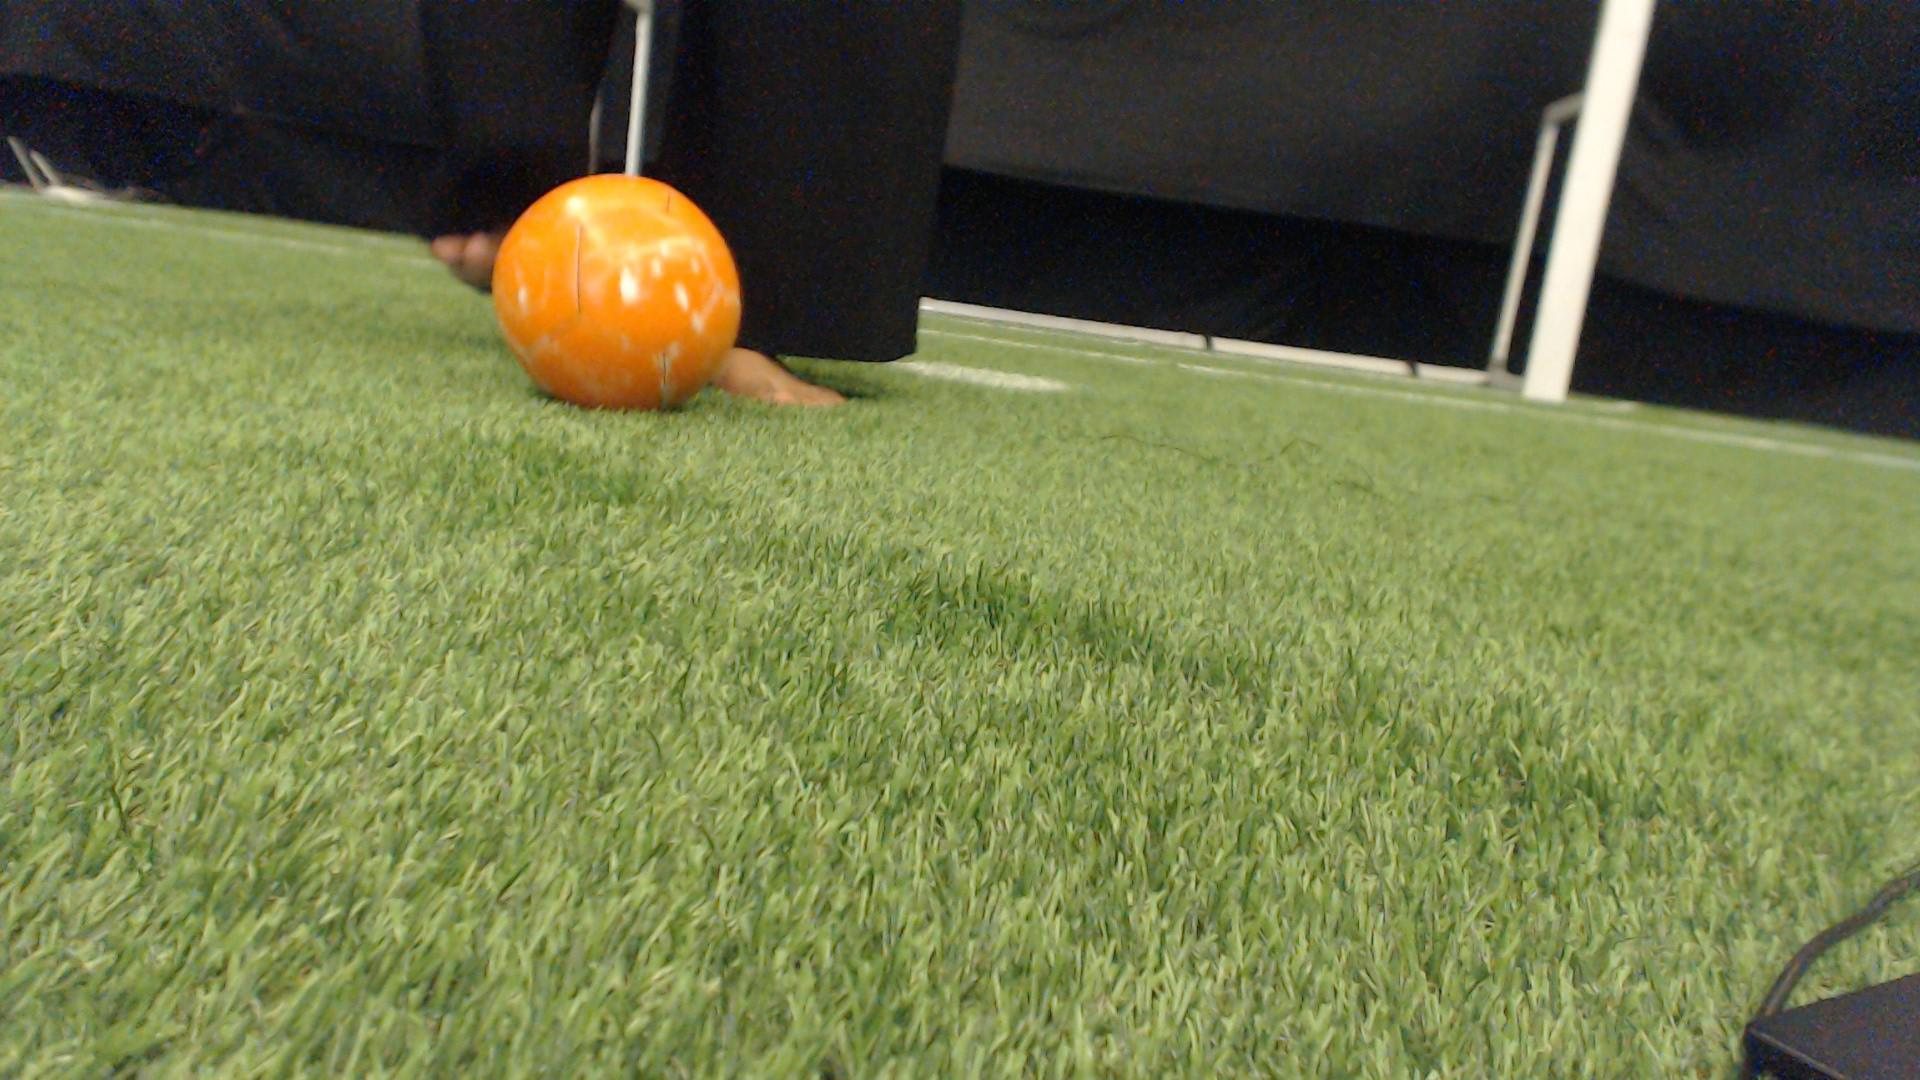bola: (482, 155, 758, 426)
